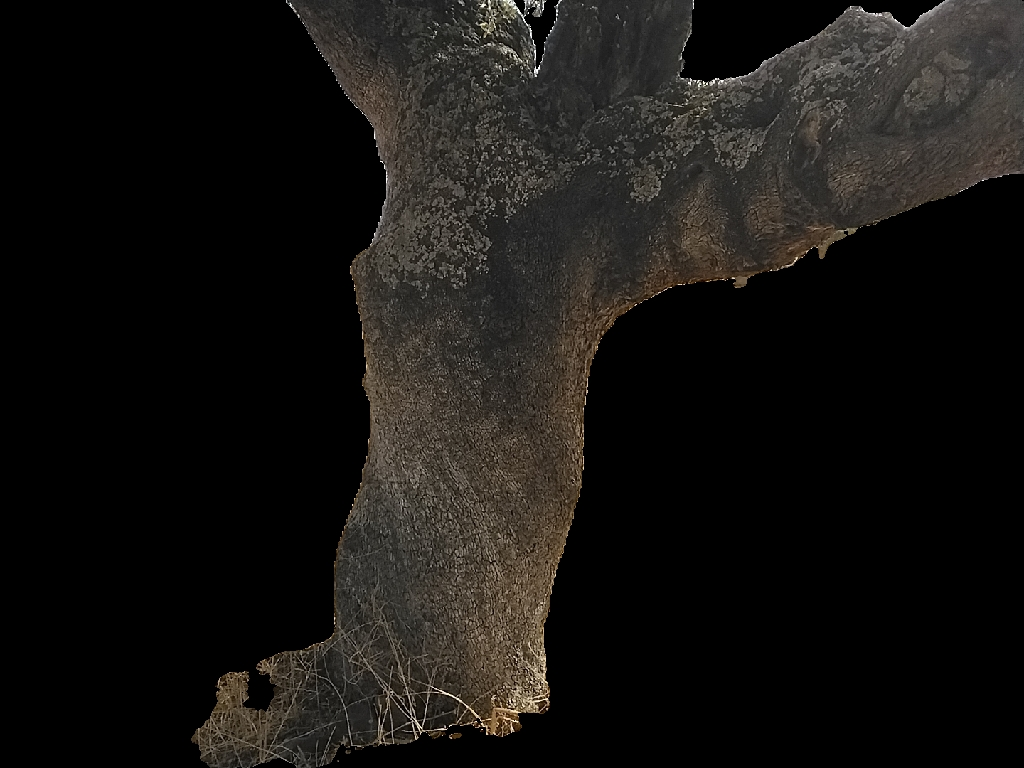Hole: (878, 32, 1014, 134), (697, 164, 702, 173)
Injure: (349, 247, 370, 323)
